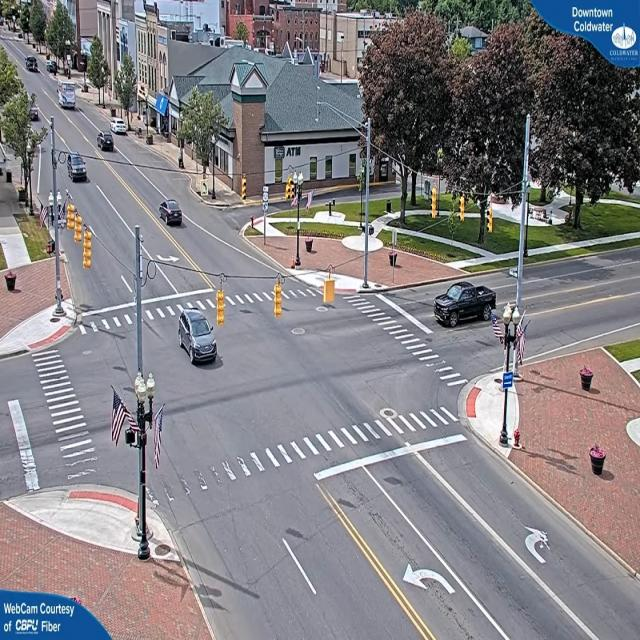car: (434, 280, 496, 328), (176, 305, 218, 365), (160, 200, 186, 228), (66, 153, 88, 183), (97, 131, 114, 152), (112, 119, 129, 137)
